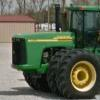Tractor: (8, 8, 100, 97)
